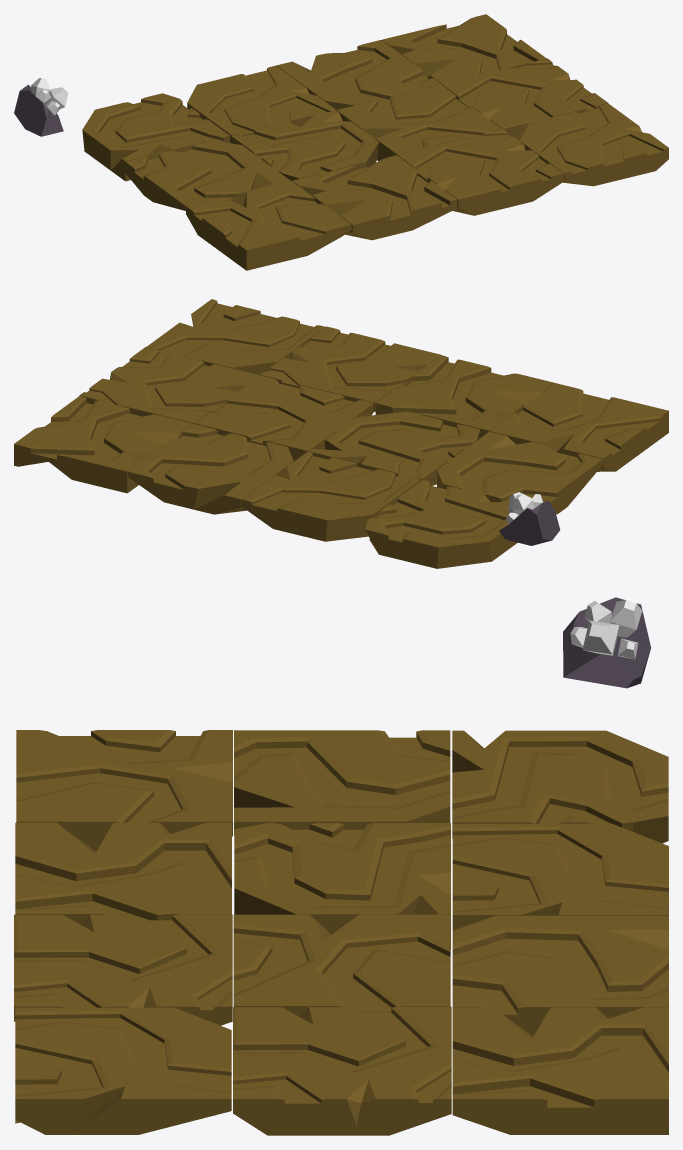
File: University Project1.fbx
3 renders of one model, top to bottom at view 1: azimuth 30°, elevation 25°; view 2: azimuth 150°, elevation 25°; view 3: azimuth 270°, elevation 25°, orthographic. The views are drawn at different scales.
Parts seen in each view (by area): view 1: Floor, Cube.012; view 2: Floor, Cube.012; view 3: Floor, Cube.012.
Boxes of the visible parts, bbox=[...] form: Floor: bbox=[82, 14, 668, 270]; Cube.012: bbox=[14, 78, 67, 136]; Floor: bbox=[14, 299, 668, 568]; Cube.012: bbox=[499, 492, 560, 545]; Floor: bbox=[14, 730, 668, 1135]; Cube.012: bbox=[563, 597, 650, 688].
Size of the model in its own units: 948 by 144 by 625.
